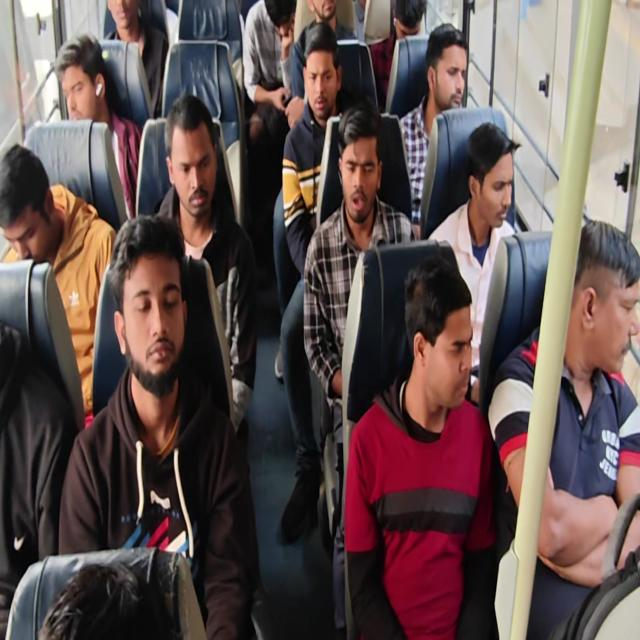person: (399, 270, 493, 420), (561, 224, 640, 371), (122, 236, 192, 382), (46, 569, 171, 640), (0, 143, 58, 276), (46, 33, 119, 126), (459, 128, 517, 231), (336, 132, 384, 222), (176, 118, 216, 219), (435, 28, 471, 119), (384, 0, 427, 58), (302, 55, 334, 122), (250, 0, 303, 36), (100, 0, 150, 38), (309, 0, 342, 29)
